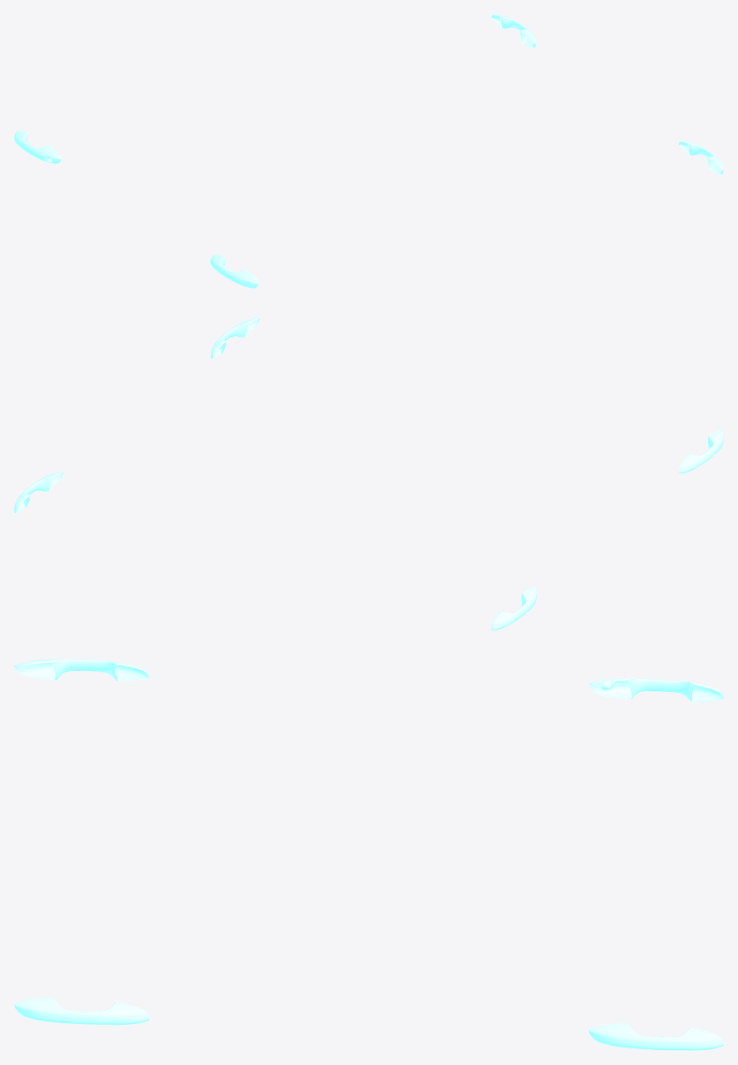
Rendered from DHL.glb.
3 views of the same model, one above another, from view 1: azimuth 30°, elevation 25°; view 2: azimuth 150°, elevation 25°; view 3: azimuth 270°, elevation 25° (orthographic). The views are drawn at different scales.
Parts seen in each view (by area): view 1: DHL; view 2: DHL; view 3: DHL.
Boxes of the visible parts, x1=… form: DHL: x1=14, y1=14, x2=723, y2=288; DHL: x1=14, y1=317, x2=723, y2=630; DHL: x1=14, y1=659, x2=723, y2=1050.
Size of the model in its own units: 1.68 by 0.1024 by 1.39.
